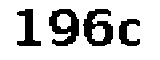1: (13, 5, 41, 50)
6: (82, 6, 114, 49)
9: (47, 5, 81, 49)
c: (118, 18, 142, 48)
